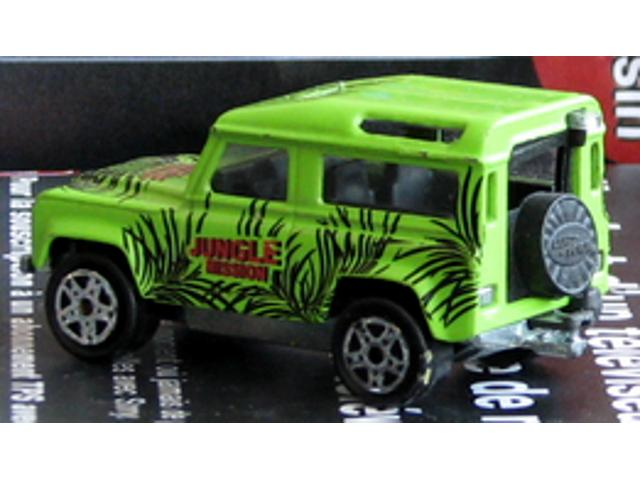toy-car: (19, 71, 610, 410)
